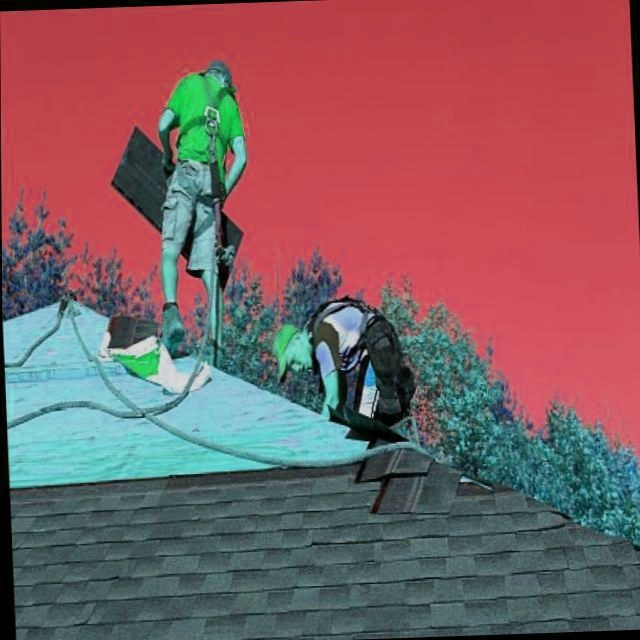safety belt: (166, 75, 248, 227), (317, 287, 405, 379)
